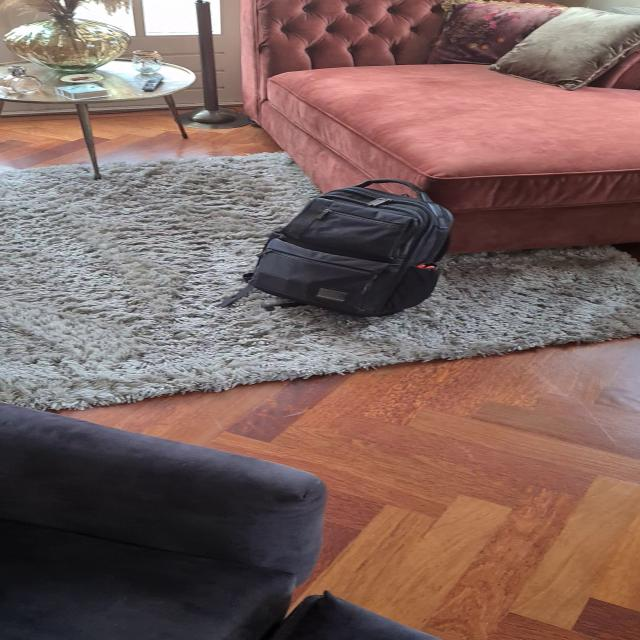backpack: (239, 172, 462, 324)
